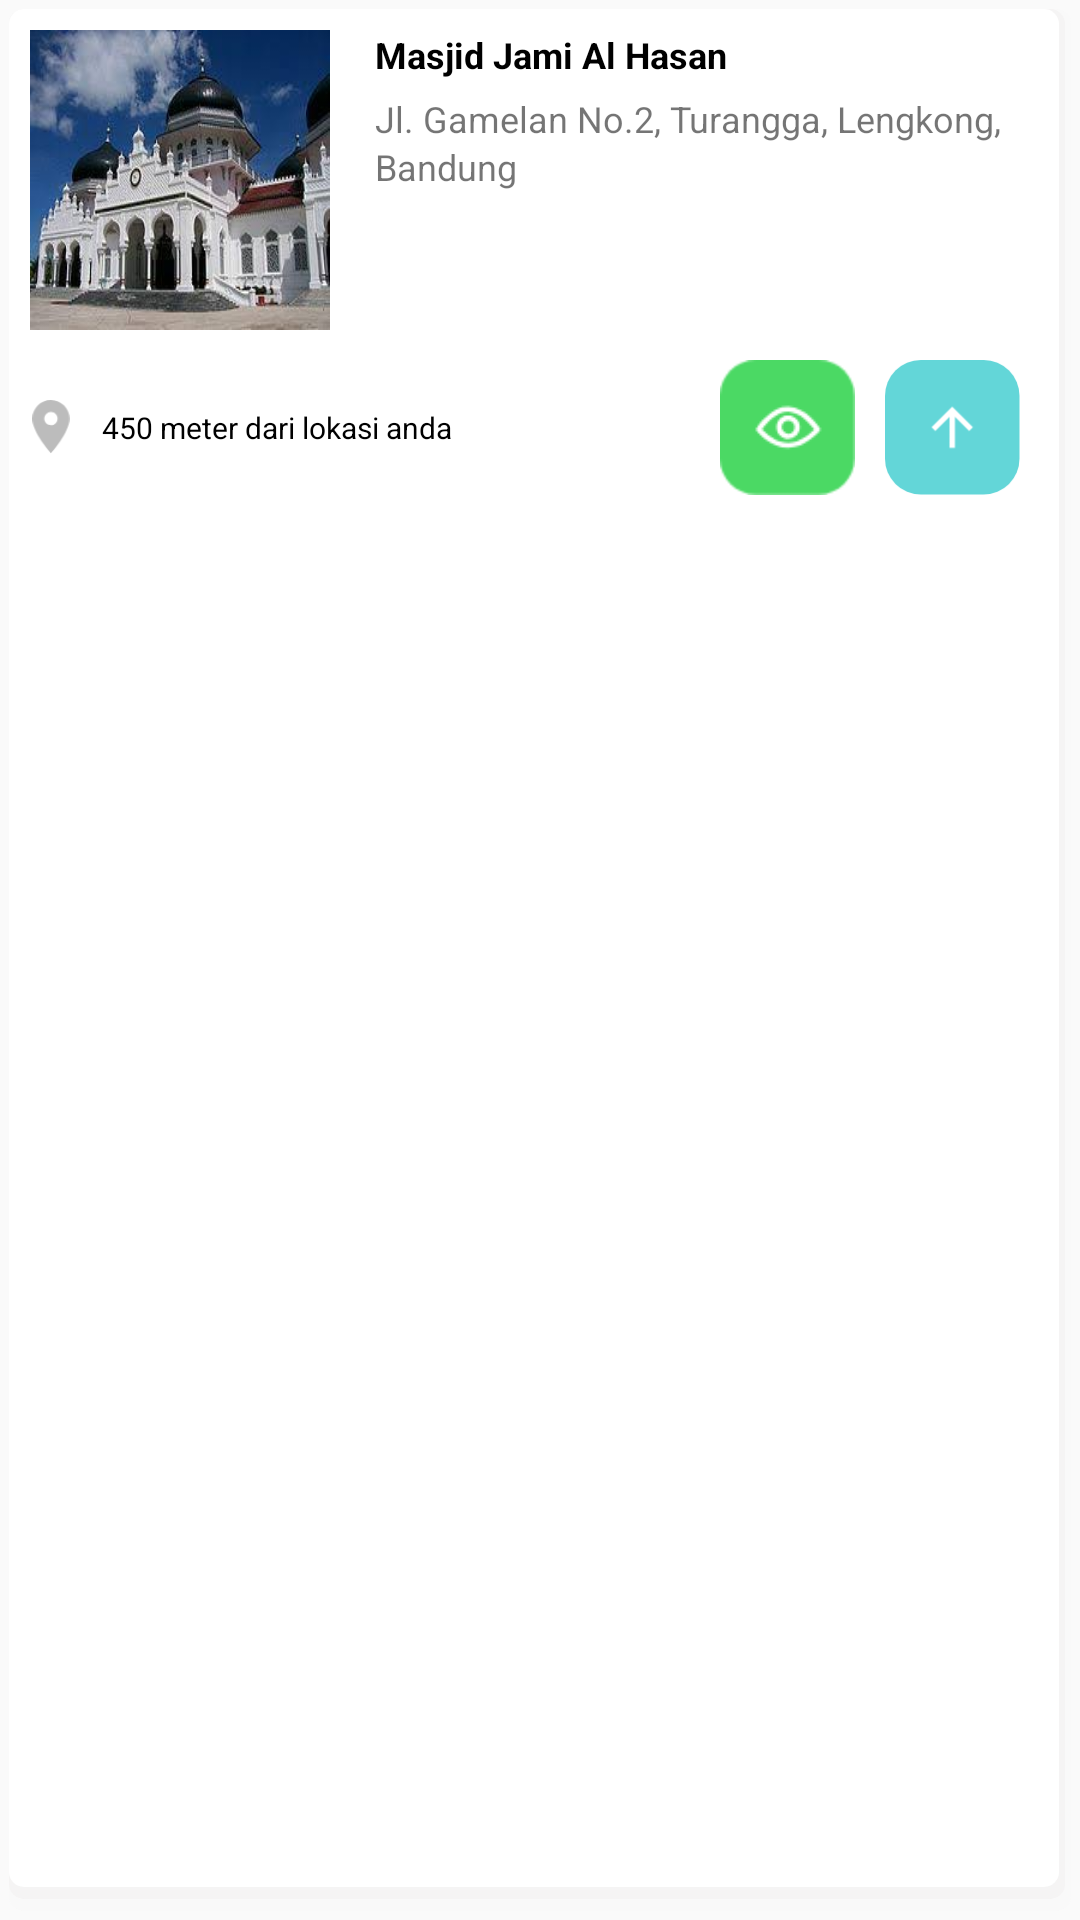

Icons on this 1080×1920 Android screen, each with the point to tap as (x=x, y=y):
eye: (x=787, y=427)
marker: (x=51, y=426)
